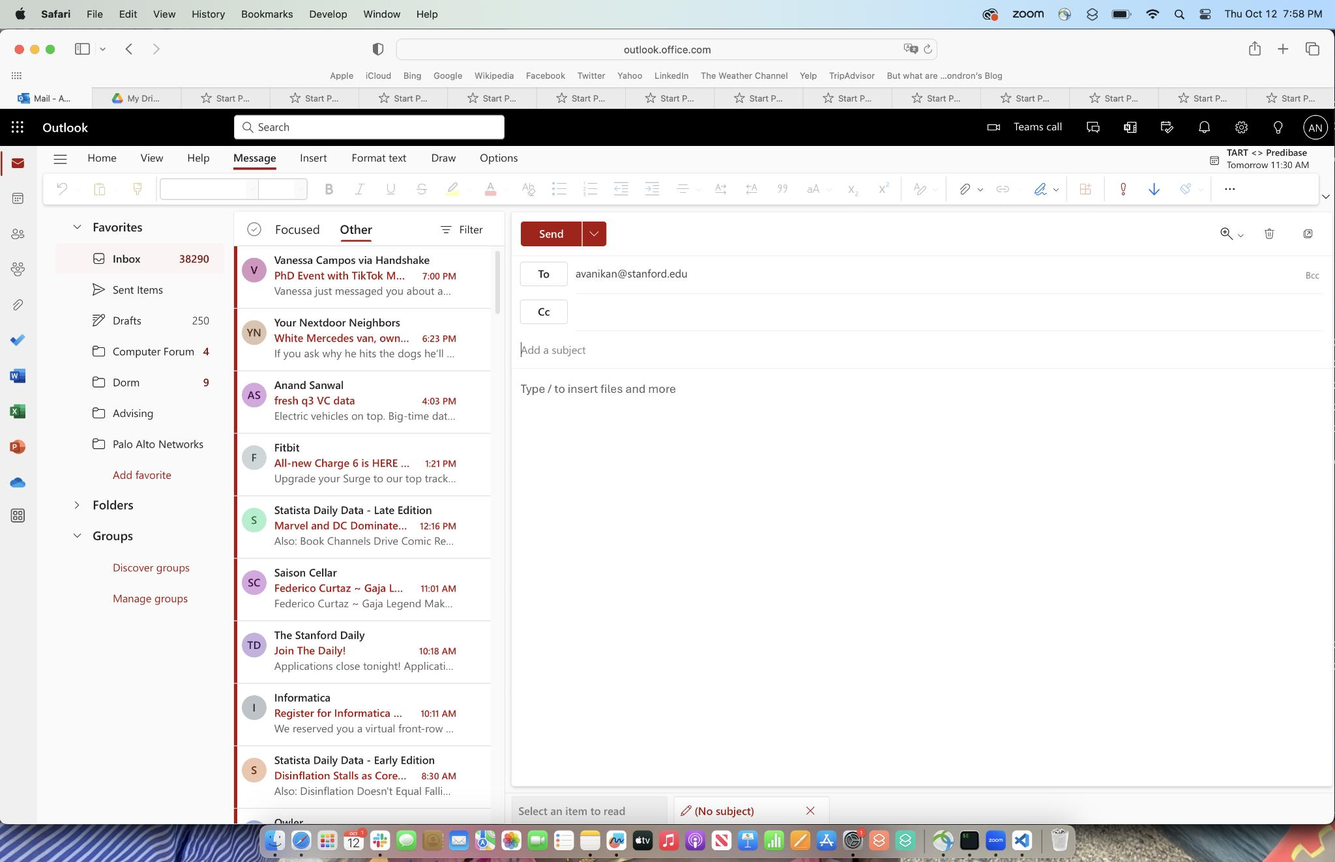webelement: (517, 373, 1307, 780), (236, 368, 491, 438), (237, 246, 488, 311), (236, 683, 489, 747), (237, 495, 492, 558), (238, 618, 488, 681), (237, 558, 488, 619), (236, 311, 489, 367), (236, 439, 493, 494), (230, 753, 489, 804), (520, 333, 808, 363), (235, 115, 505, 142), (574, 259, 754, 290), (573, 300, 753, 323), (65, 210, 171, 241), (65, 522, 170, 553), (66, 492, 168, 522), (88, 305, 173, 336), (88, 245, 171, 275), (87, 278, 171, 303), (344, 144, 421, 171), (228, 147, 287, 178), (519, 221, 584, 249), (272, 217, 325, 245), (476, 144, 528, 172), (133, 143, 178, 175), (423, 142, 472, 171), (80, 146, 127, 175), (330, 218, 380, 245), (291, 147, 337, 175), (182, 146, 220, 175), (1209, 222, 1249, 247), (1256, 222, 1285, 246), (85, 338, 90, 339)
